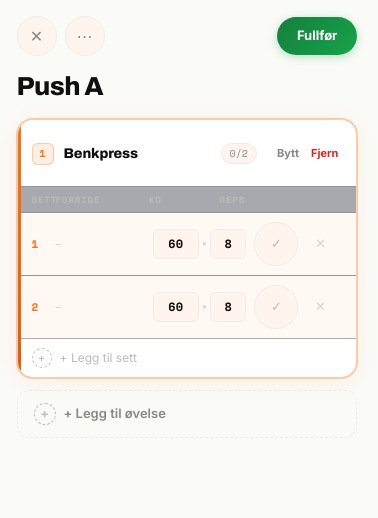
Test case: WorkoutPage › + Legg til sett legger til ny rad lokalt
The width and height of the screenshot is (378, 518).
Click the button "+ + Legg til sett": (98, 358) [18,338,356,377]
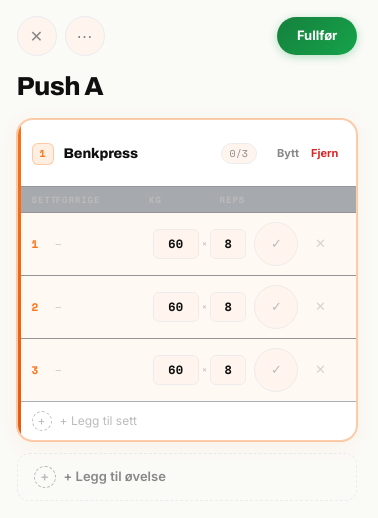
Check: the number of buttons named "Marker som fullført" is 3, box [254,222,298,266]; [254,285,298,329]; [254,348,298,392]
